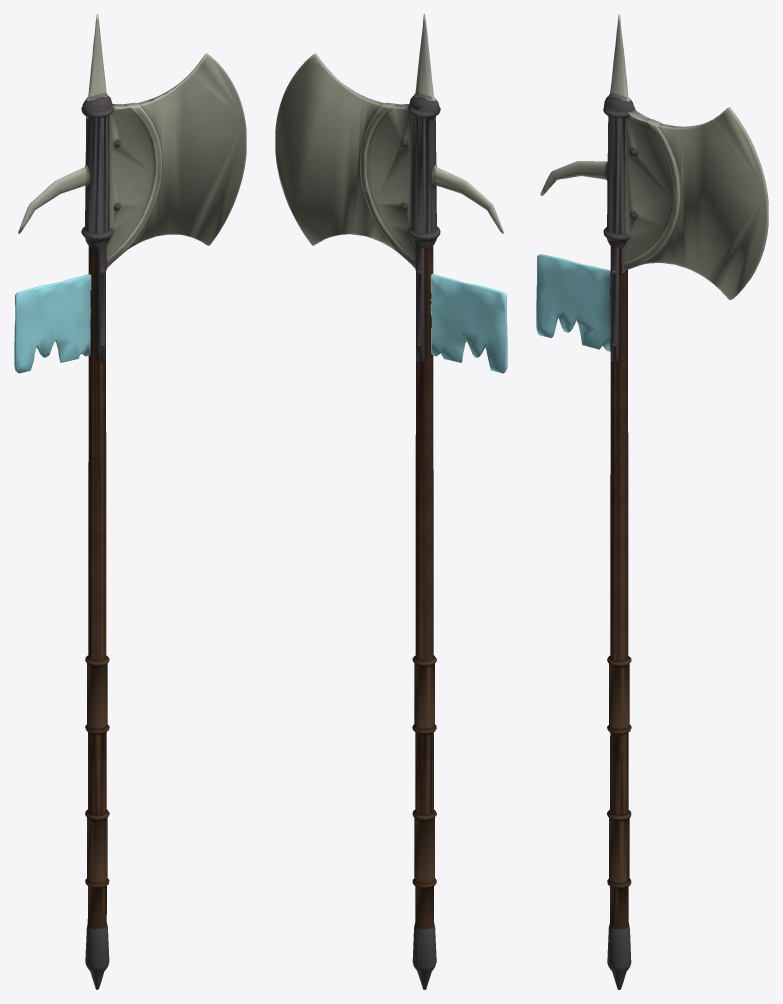
File: weapon_halberd.glb
3 renders of one model, left to right at view 1: azimuth 30°, elevation 25°; view 2: azimuth 150°, elevation 25°; view 3: azimuth 330°, elevation 25°, orthographic.
Parts seen in each view (by area): view 1: weapon_halberd; view 2: weapon_halberd; view 3: weapon_halberd.
Boxes of the visible parts, left/top/right/bottom form: weapon_halberd: left=14, top=14, right=246, bottom=989; weapon_halberd: left=275, top=14, right=507, bottom=989; weapon_halberd: left=536, top=14, right=768, bottom=989.
Size of the model in its own units: 0.5358 by 2.15 by 0.0636.
Materials: 1 (1 with a texture image).
